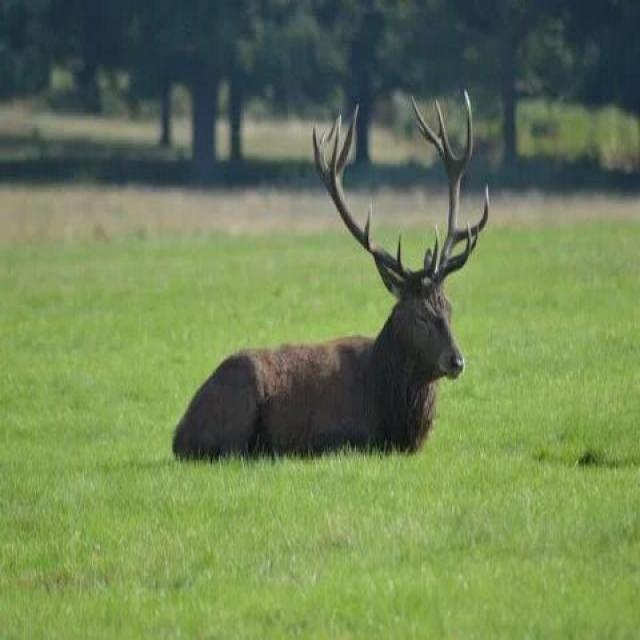deer: (138, 52, 520, 528)
